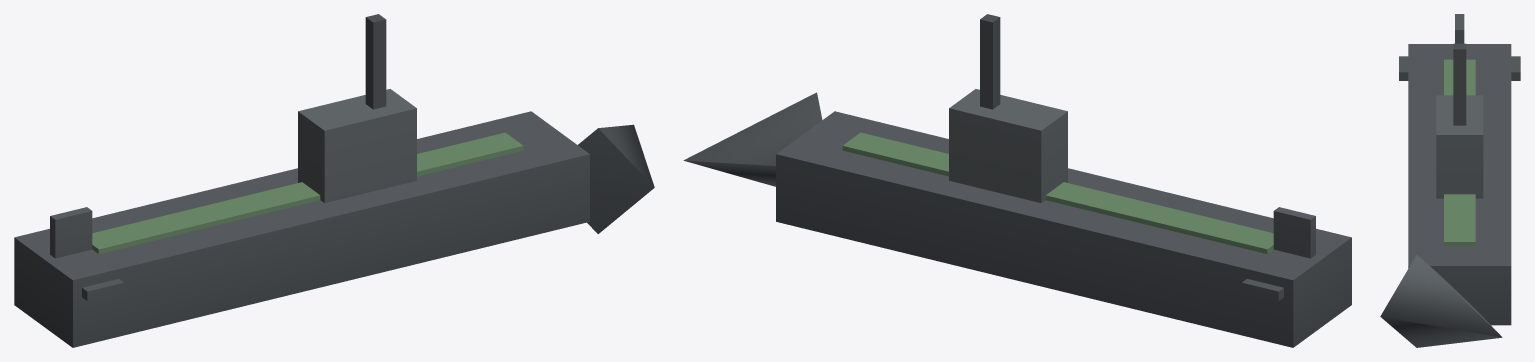
3 renders of one model, left to right at view 1: azimuth 30°, elevation 25°; view 2: azimuth 150°, elevation 25°; view 3: azimuth 270°, elevation 25°, orthographic. The views are drawn at different scales.
Parts seen in each view (by area): view 1: mesh; view 2: mesh; view 3: mesh.
Boxes of the visible parts, x1,y1,x2,y2 form: mesh: (14,14,654,347); mesh: (683,14,1351,347); mesh: (1380,14,1520,347).
Size of the model in its own units: 66.6 by 25.5 by 14.99.
